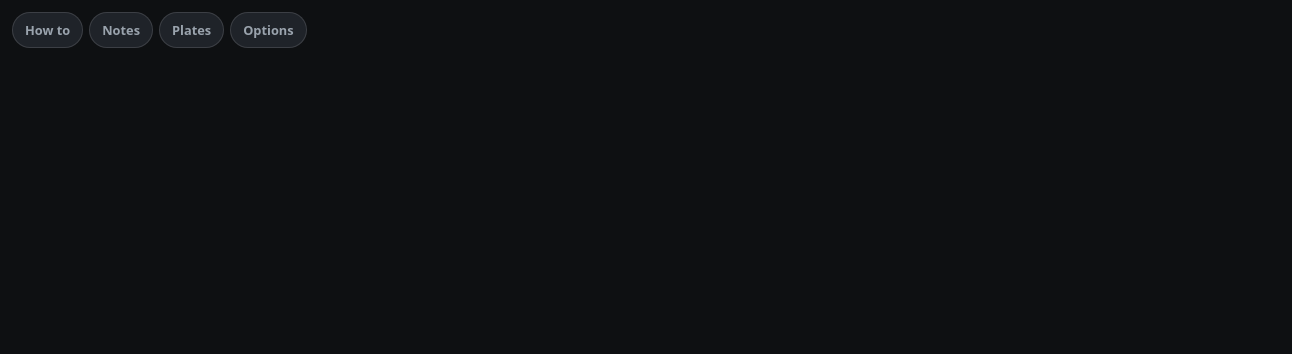
Scenario: the Weights tab › is Plates on a machine set to plates, whose weight is its plates with no bar
This screenshot has width=1292, height=354.
Click the tab with test id "plates-tab".
click(192, 30)  # box [159,12,224,48]
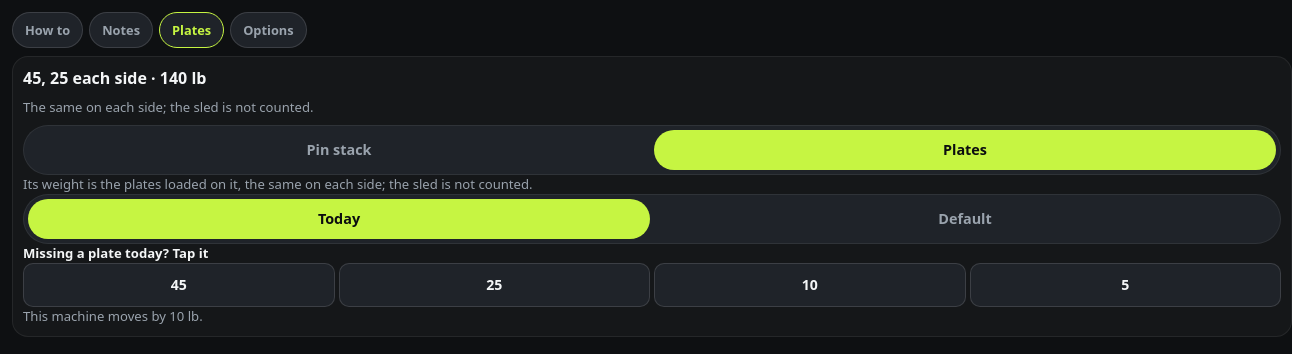
Now the panel with test id "plate-math" shows "45, 25 each side · 140 lb", box [23,67,206,89]
Now the panel with test id "plate-math" shows "The same on each side; the sled is not counted.", box [23,98,314,116]
